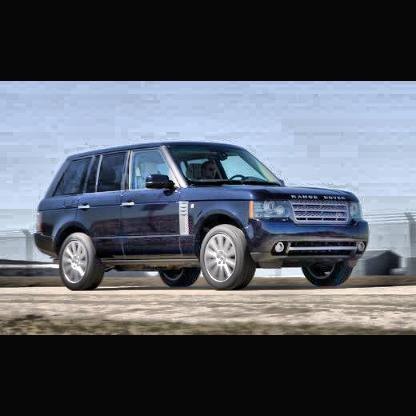Land Rover Range Rover SUV 2012: (34, 141, 372, 293)
